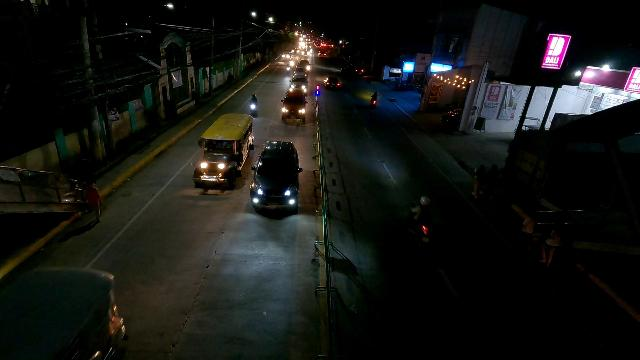car: (251, 140, 303, 210), (281, 88, 308, 121), (288, 74, 308, 96), (324, 76, 341, 90)
jeepney: (191, 113, 255, 187)
motorcycle: (407, 193, 431, 251), (249, 94, 260, 117), (369, 91, 378, 109)
